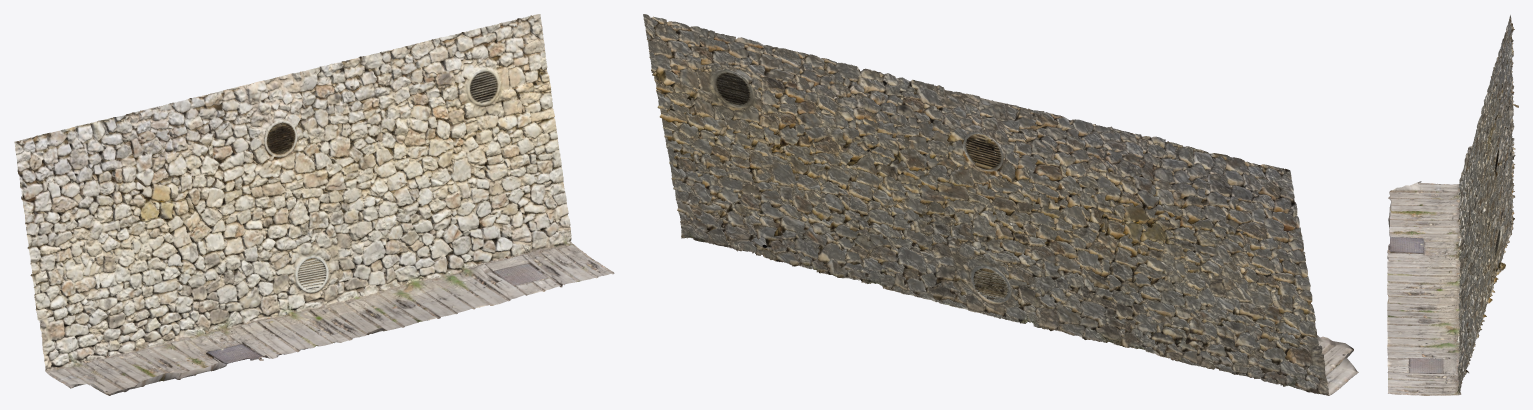
File: park_rocks_wall.glb
The picture shows the model from 3 angles, left to right: view 1: azimuth 30°, elevation 25°; view 2: azimuth 150°, elevation 25°; view 3: azimuth 270°, elevation 25°; orthographic projection. The views are drawn at different scales.
Parts seen in each view (by area): view 1: Object_2; view 2: Object_2; view 3: Object_2.
Part boxes in pixels (box(x1,y1,x2,y2)): Object_2: box(14, 14, 614, 395); Object_2: box(643, 14, 1358, 395); Object_2: box(1387, 15, 1518, 395).
Bounding box in the file's own units: 34.52 × 13.25 × 9.1.
1 material, 1 textured.
